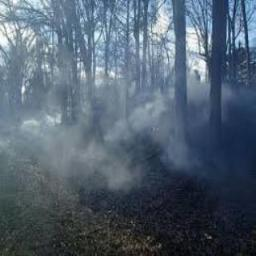Low smoke: (21, 79, 246, 197)
